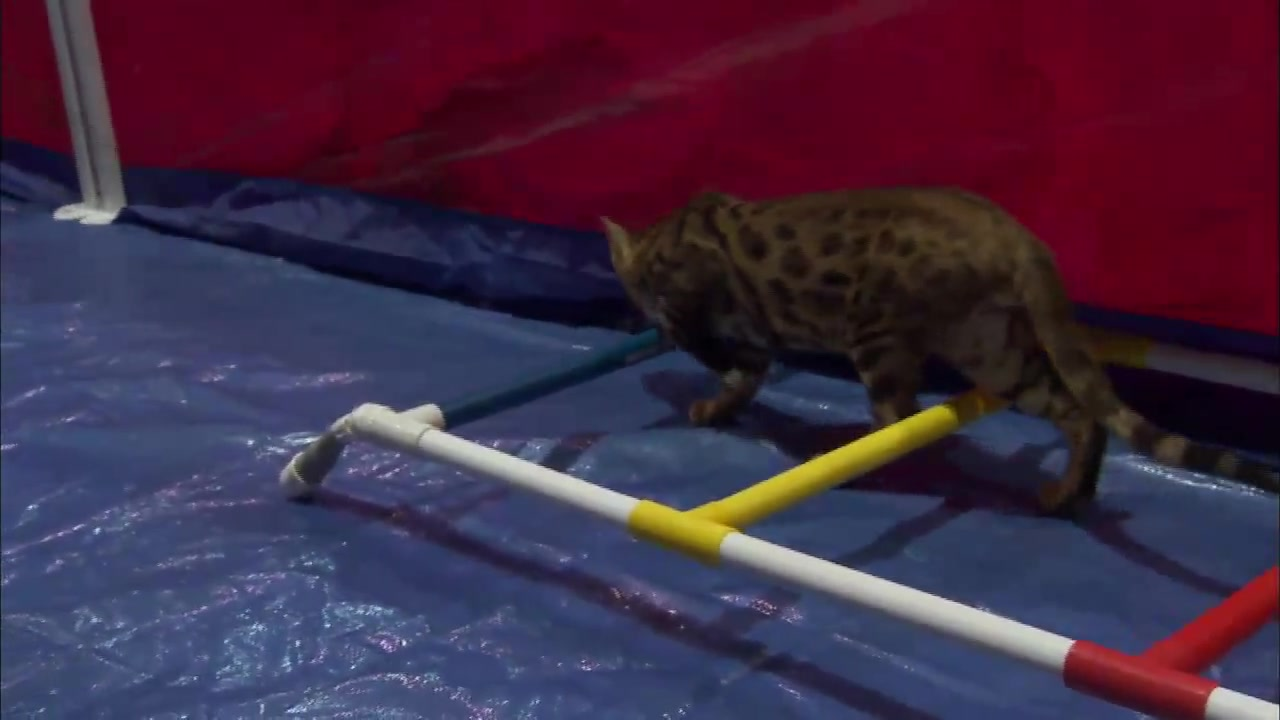cat: (600, 182, 1277, 525)
